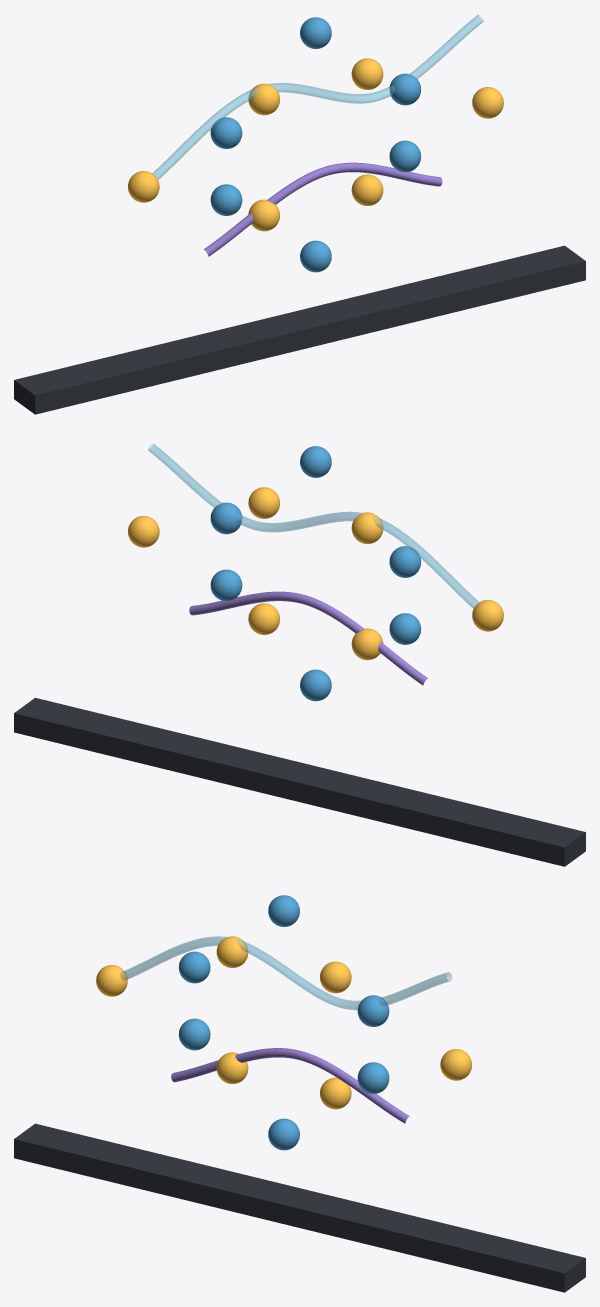
File: space-cosmology-large-scale-structure.glb
3 renders of one model, top to bottom at view 1: azimuth 30°, elevation 25°; view 2: azimuth 150°, elevation 25°; view 3: azimuth 330°, elevation 25°, orthographic.
Visible parts, largest first — view 1: cosmology-bench, cosmic-web-filament-a, cosmic-web-filament-b, galaxy-node-large-scale-structure-7, galaxy-node-large-scale-structure-9, galaxy-node-large-scale-structure-11, galaxy-node-large-scale-structure-2, galaxy-node-large-scale-structure-5, galaxy-node-large-scale-structure-4, galaxy-node-large-scale-structure-3, galaxy-node-large-scale-structure-6, galaxy-node-large-scale-structure-10 (+3 smaller); view 2: cosmology-bench, cosmic-web-filament-a, cosmic-web-filament-b, galaxy-node-large-scale-structure-9, galaxy-node-large-scale-structure-6, galaxy-node-large-scale-structure-2, galaxy-node-large-scale-structure-10, galaxy-node-large-scale-structure-11, galaxy-node-large-scale-structure-0, galaxy-node-large-scale-structure-7, galaxy-node-large-scale-structure-3, galaxy-node-large-scale-structure-1 (+3 smaller); view 3: cosmology-bench, cosmic-web-filament-a, cosmic-web-filament-b, galaxy-node-large-scale-structure-11, galaxy-node-large-scale-structure-9, galaxy-node-large-scale-structure-1, galaxy-node-large-scale-structure-2, galaxy-node-large-scale-structure-5, galaxy-node-large-scale-structure-7, galaxy-node-large-scale-structure-0, galaxy-node-large-scale-structure-3, galaxy-node-large-scale-structure-6 (+3 smaller).
Boxes of the visible parts, left/top/right/bottom form: cosmology-bench: left=14, top=245, right=585, bottom=414; cosmic-web-filament-a: left=152, top=14, right=483, bottom=179; cosmic-web-filament-b: left=204, top=162, right=442, bottom=256; galaxy-node-large-scale-structure-7: left=210, top=184, right=242, bottom=215; galaxy-node-large-scale-structure-9: left=300, top=240, right=331, bottom=272; galaxy-node-large-scale-structure-11: left=389, top=140, right=421, bottom=172; galaxy-node-large-scale-structure-2: left=351, top=58, right=383, bottom=89; galaxy-node-large-scale-structure-5: left=210, top=117, right=242, bottom=148; galaxy-node-large-scale-structure-4: left=248, top=83, right=279, bottom=115; galaxy-node-large-scale-structure-3: left=300, top=17, right=331, bottom=48; galaxy-node-large-scale-structure-6: left=128, top=171, right=159, bottom=202; galaxy-node-large-scale-structure-10: left=351, top=174, right=383, bottom=205; cosmology-bench: left=14, top=697, right=585, bottom=866; cosmic-web-filament-a: left=148, top=443, right=478, bottom=608; cosmic-web-filament-b: left=189, top=591, right=427, bottom=685; galaxy-node-large-scale-structure-9: left=300, top=669, right=331, bottom=701; galaxy-node-large-scale-structure-6: left=472, top=600, right=503, bottom=631; galaxy-node-large-scale-structure-2: left=248, top=487, right=279, bottom=518; galaxy-node-large-scale-structure-10: left=248, top=603, right=279, bottom=634; galaxy-node-large-scale-structure-11: left=210, top=569, right=242, bottom=601; galaxy-node-large-scale-structure-0: left=128, top=516, right=159, bottom=547; galaxy-node-large-scale-structure-7: left=389, top=613, right=421, bottom=644; galaxy-node-large-scale-structure-3: left=300, top=446, right=331, bottom=477; galaxy-node-large-scale-structure-1: left=210, top=502, right=241, bottom=534; cosmology-bench: left=14, top=1123, right=585, bottom=1292; cosmic-web-filament-a: left=120, top=936, right=451, bottom=1010; cosmic-web-filament-b: left=171, top=1048, right=409, bottom=1123; galaxy-node-large-scale-structure-11: left=357, top=1062, right=389, bottom=1093; galaxy-node-large-scale-structure-9: left=268, top=1118, right=299, bottom=1150; galaxy-node-large-scale-structure-1: left=357, top=995, right=389, bottom=1026; galaxy-node-large-scale-structure-2: left=320, top=961, right=351, bottom=993; galaxy-node-large-scale-structure-5: left=178, top=951, right=210, bottom=983; galaxy-node-large-scale-structure-7: left=178, top=1018, right=210, bottom=1050; galaxy-node-large-scale-structure-0: left=440, top=1049, right=471, bottom=1080; galaxy-node-large-scale-structure-3: left=268, top=895, right=299, bottom=926; galaxy-node-large-scale-structure-6: left=96, top=965, right=127, bottom=996.
Size of what is drawn, in the model's own units: 2.4 by 1.38 by 0.26.
